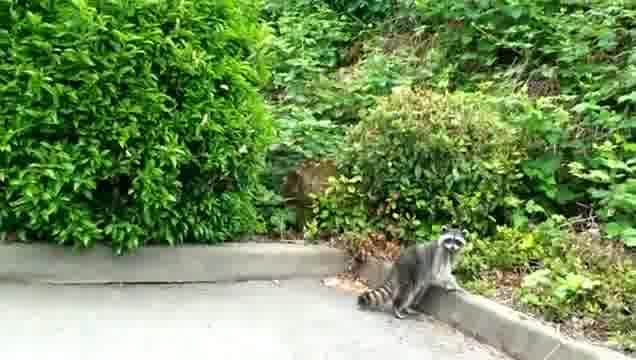raccoon: (358, 225, 467, 323)
